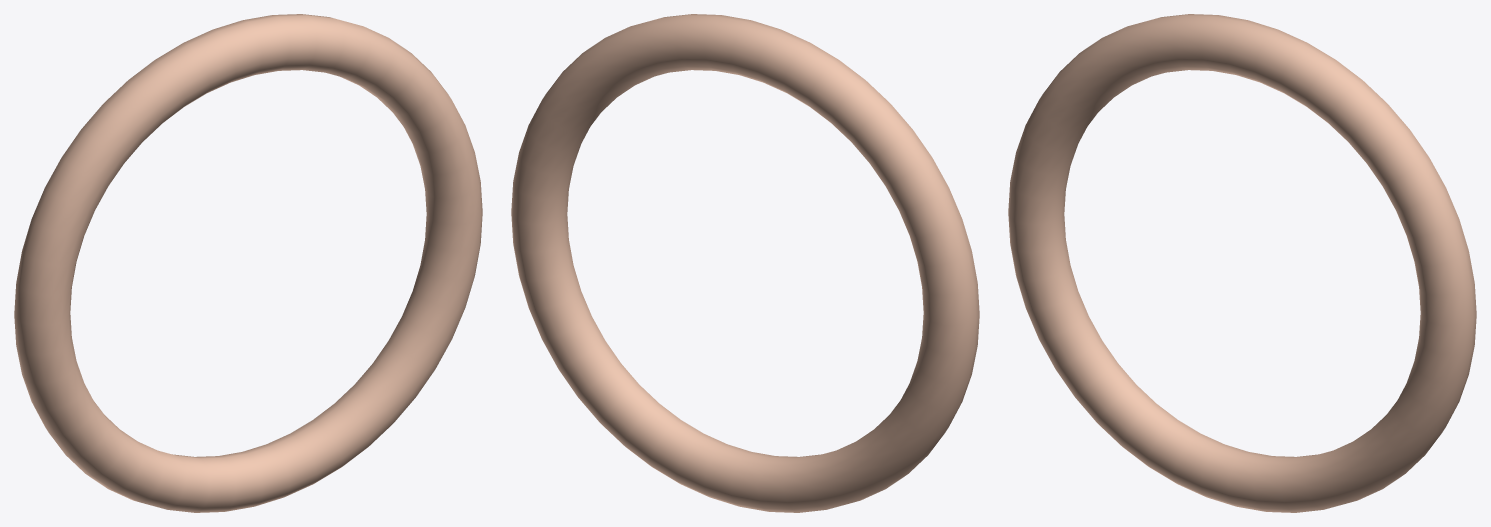
3 views of the same model, side by side, from view 1: azimuth 30°, elevation 25°; view 2: azimuth 150°, elevation 25°; view 3: azimuth 330°, elevation 25° (orthographic).
Visible parts, largest first — view 1: Jewelry; view 2: Jewelry; view 3: Jewelry.
Part boxes in pixels (<box>): Jewelry: <box>14,14,482,512</box>; Jewelry: <box>511,14,979,512</box>; Jewelry: <box>1008,14,1476,512</box>.
Bounding box in the file's own units: 1.23 × 1.23 × 0.1267.
